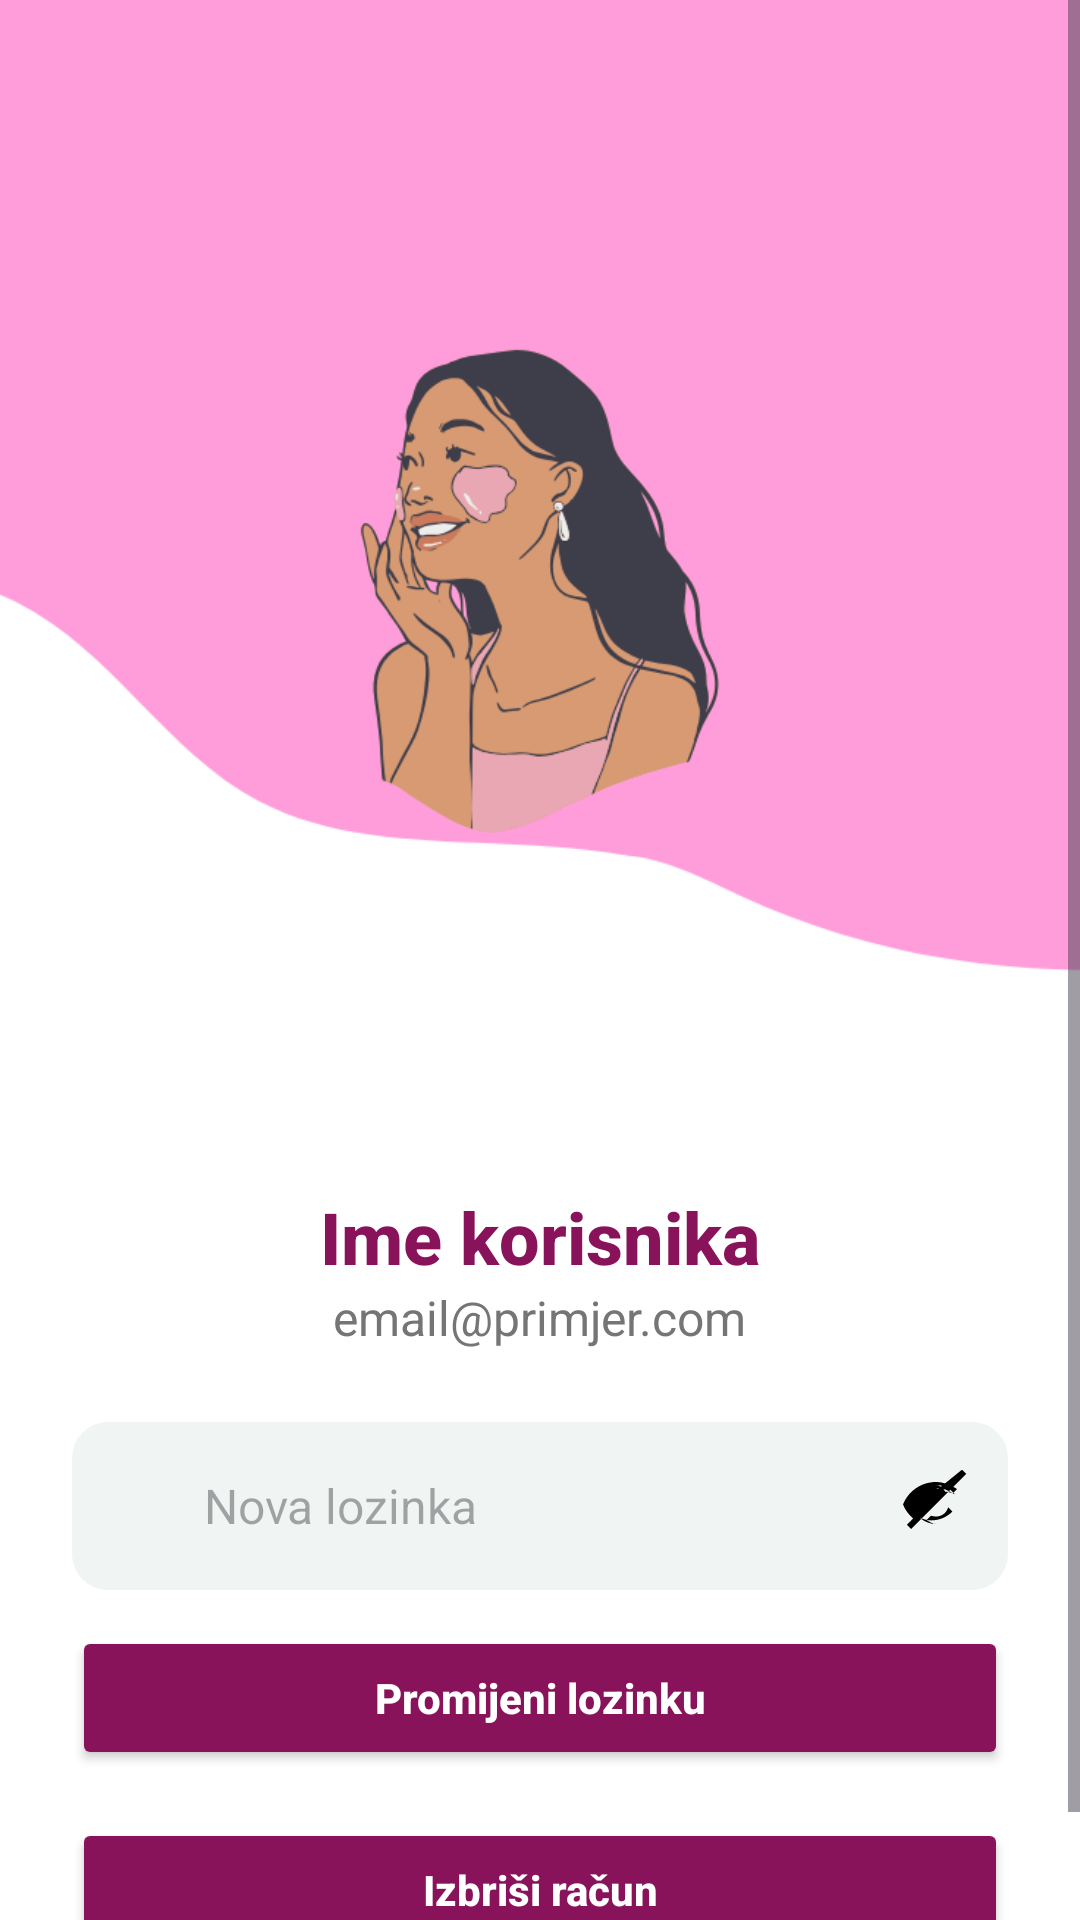

Named icons in this screenshot (1080×1920) and their centers, point (x, y):
Toggle password: point (934, 1499)
